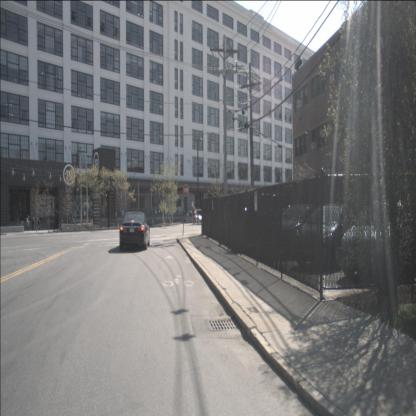human-pedestrian-adult: (37, 217, 42, 236), (32, 216, 37, 235), (26, 214, 30, 235), (192, 204, 195, 225)
vehicle-car: (340, 201, 415, 278), (295, 204, 356, 270), (268, 204, 330, 258), (120, 211, 150, 250), (181, 210, 204, 224)
